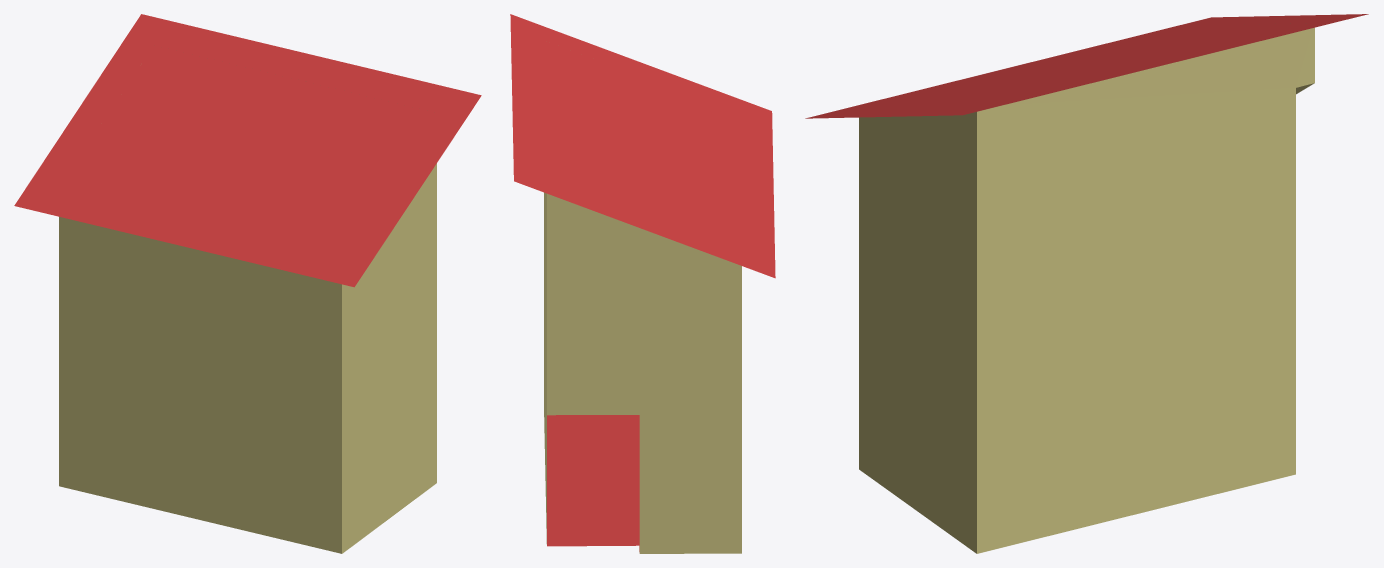
3 renders of one model, left to right at view 1: azimuth 30°, elevation 25°; view 2: azimuth 150°, elevation 25°; view 3: azimuth 270°, elevation 25°, orthographic. The views are drawn at different scales.
Bounding box in the file's own units: 9.59 × 10.66 × 9.61.
